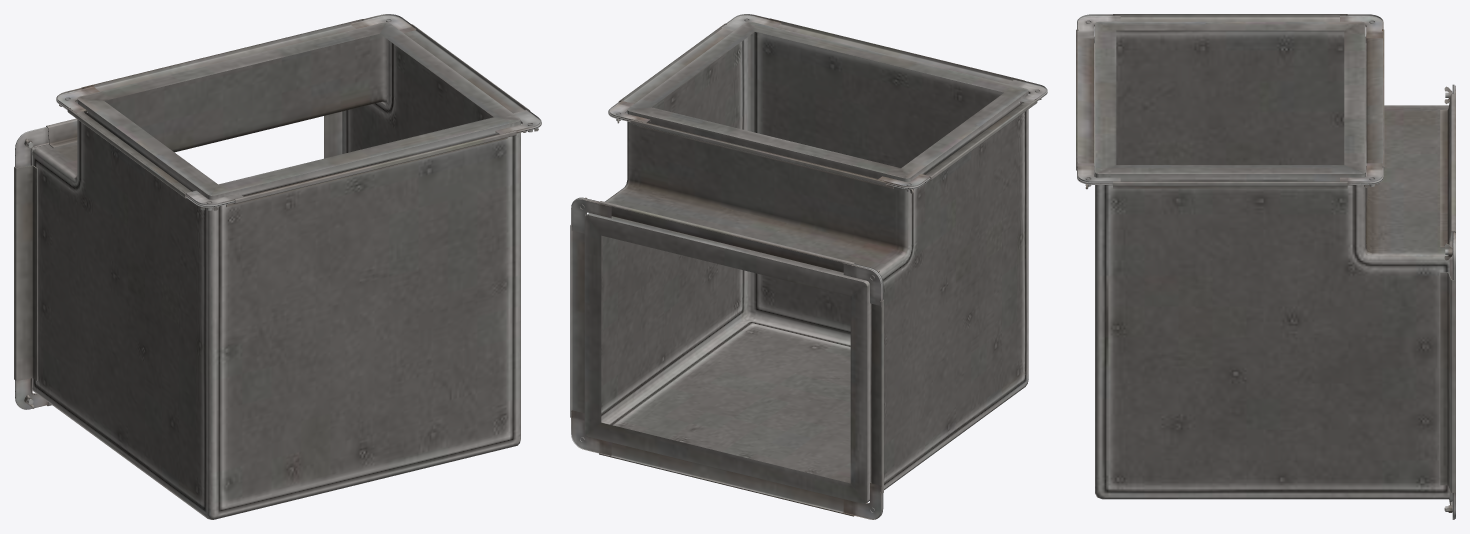
File: corner_01.gltf
3 views of the same model, side by side, from view 1: azimuth 30°, elevation 25°; view 2: azimuth 150°, elevation 25°; view 3: azimuth 270°, elevation 25° (orthographic). The views are drawn at different scales.
Visible parts, largest first — view 1: corner_01; view 2: corner_01; view 3: corner_01.
Part boxes in pixels (box(x1,y1,x2,y2)): corner_01: box(14, 14, 541, 519); corner_01: box(570, 14, 1047, 519); corner_01: box(1076, 14, 1455, 519).
Size of the model in its own units: 0.6634 by 0.6313 by 0.6313.
1 material, 1 textured.
